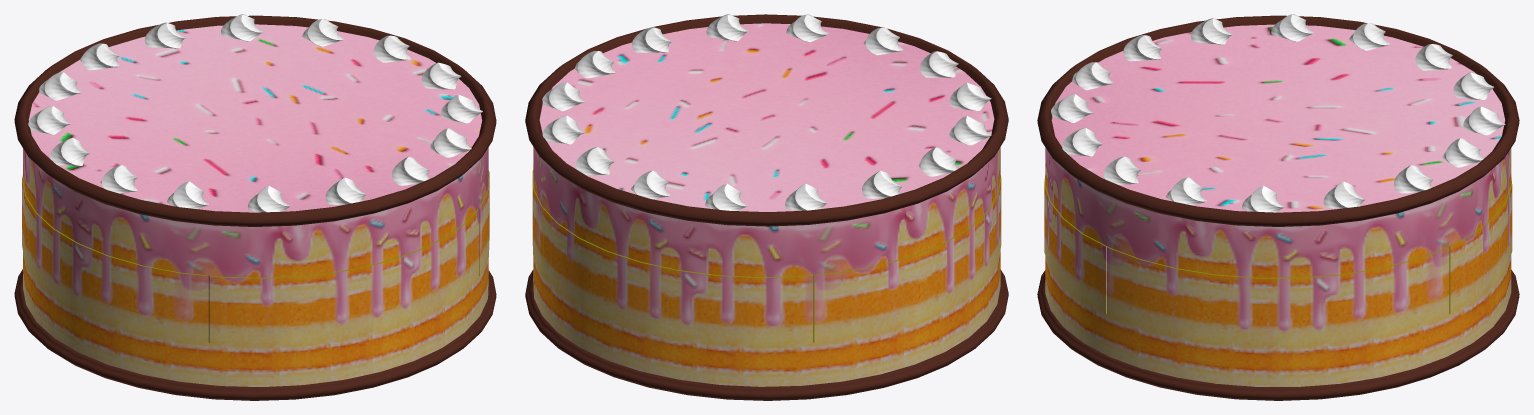
File: cake04.FBX
3 renders of one model, left to right at view 1: azimuth 30°, elevation 25°; view 2: azimuth 150°, elevation 25°; view 3: azimuth 270°, elevation 25°, orthographic.
Parts seen in each view (by area): view 1: 35_00, 35_03, 35_01, 35_04, 35_02; view 2: 35_00, 35_03, 35_05, 35_04, 35_02; view 3: 35_00, 35_03, 35_02, 35_05, 35_01.
Part boxes in pixels (x1=…): 35_00: x1=14, y1=14, x2=496, y2=277; 35_03: x1=14, y1=252, x2=496, y2=400; 35_01: x1=208, y1=209, x2=478, y2=345; 35_04: x1=22, y1=175, x2=208, y2=343; 35_02: x1=478, y1=170, x2=489, y2=275; 35_00: x1=525, y1=14, x2=1008, y2=277; 35_03: x1=525, y1=250, x2=1008, y2=400; 35_05: x1=543, y1=208, x2=814, y2=345; 35_04: x1=814, y1=175, x2=1001, y2=342; 35_02: x1=532, y1=170, x2=543, y2=274; 35_00: x1=1037, y1=14, x2=1519, y2=277; 35_03: x1=1037, y1=255, x2=1519, y2=400; 35_02: x1=1107, y1=247, x2=1449, y2=345; 35_05: x1=1448, y1=178, x2=1512, y2=313; 35_01: x1=1044, y1=175, x2=1107, y2=313.
Bounding box in the file's own units: 493 × 228 × 493.
